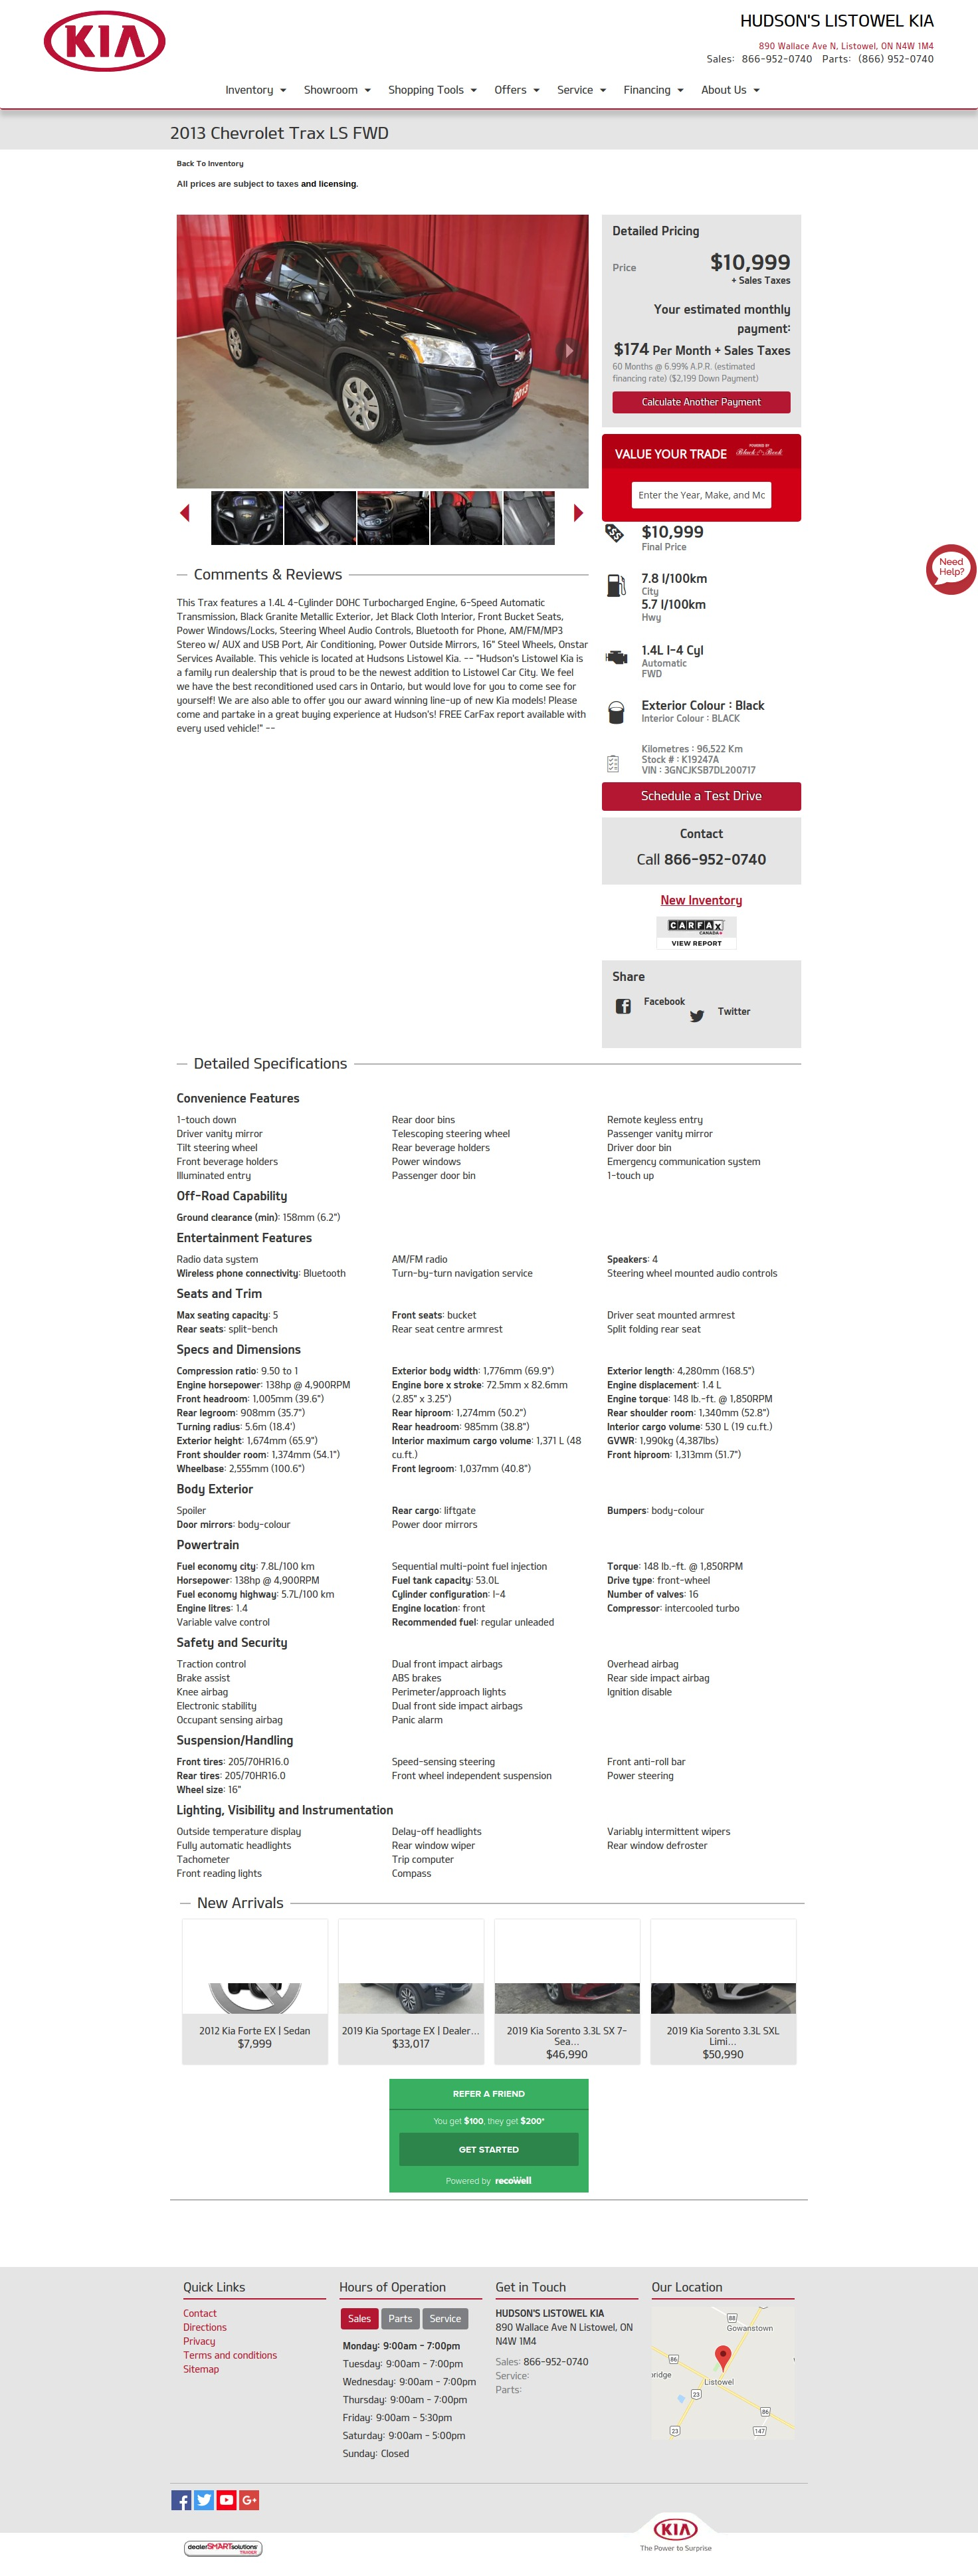car: (572, 504, 585, 524)
